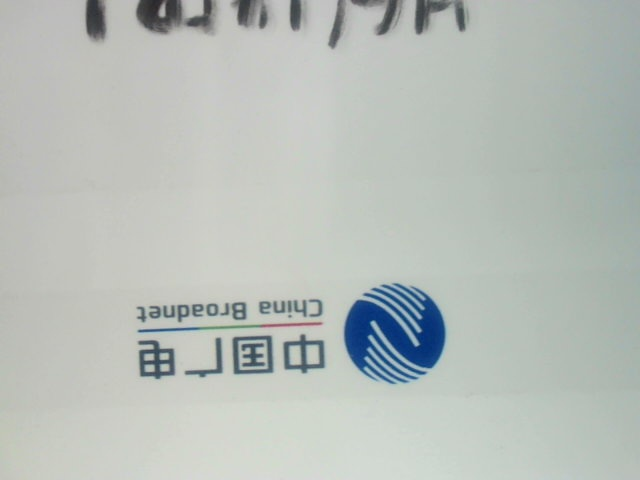AW_ChinaBroadNet: (119, 279, 452, 393)
